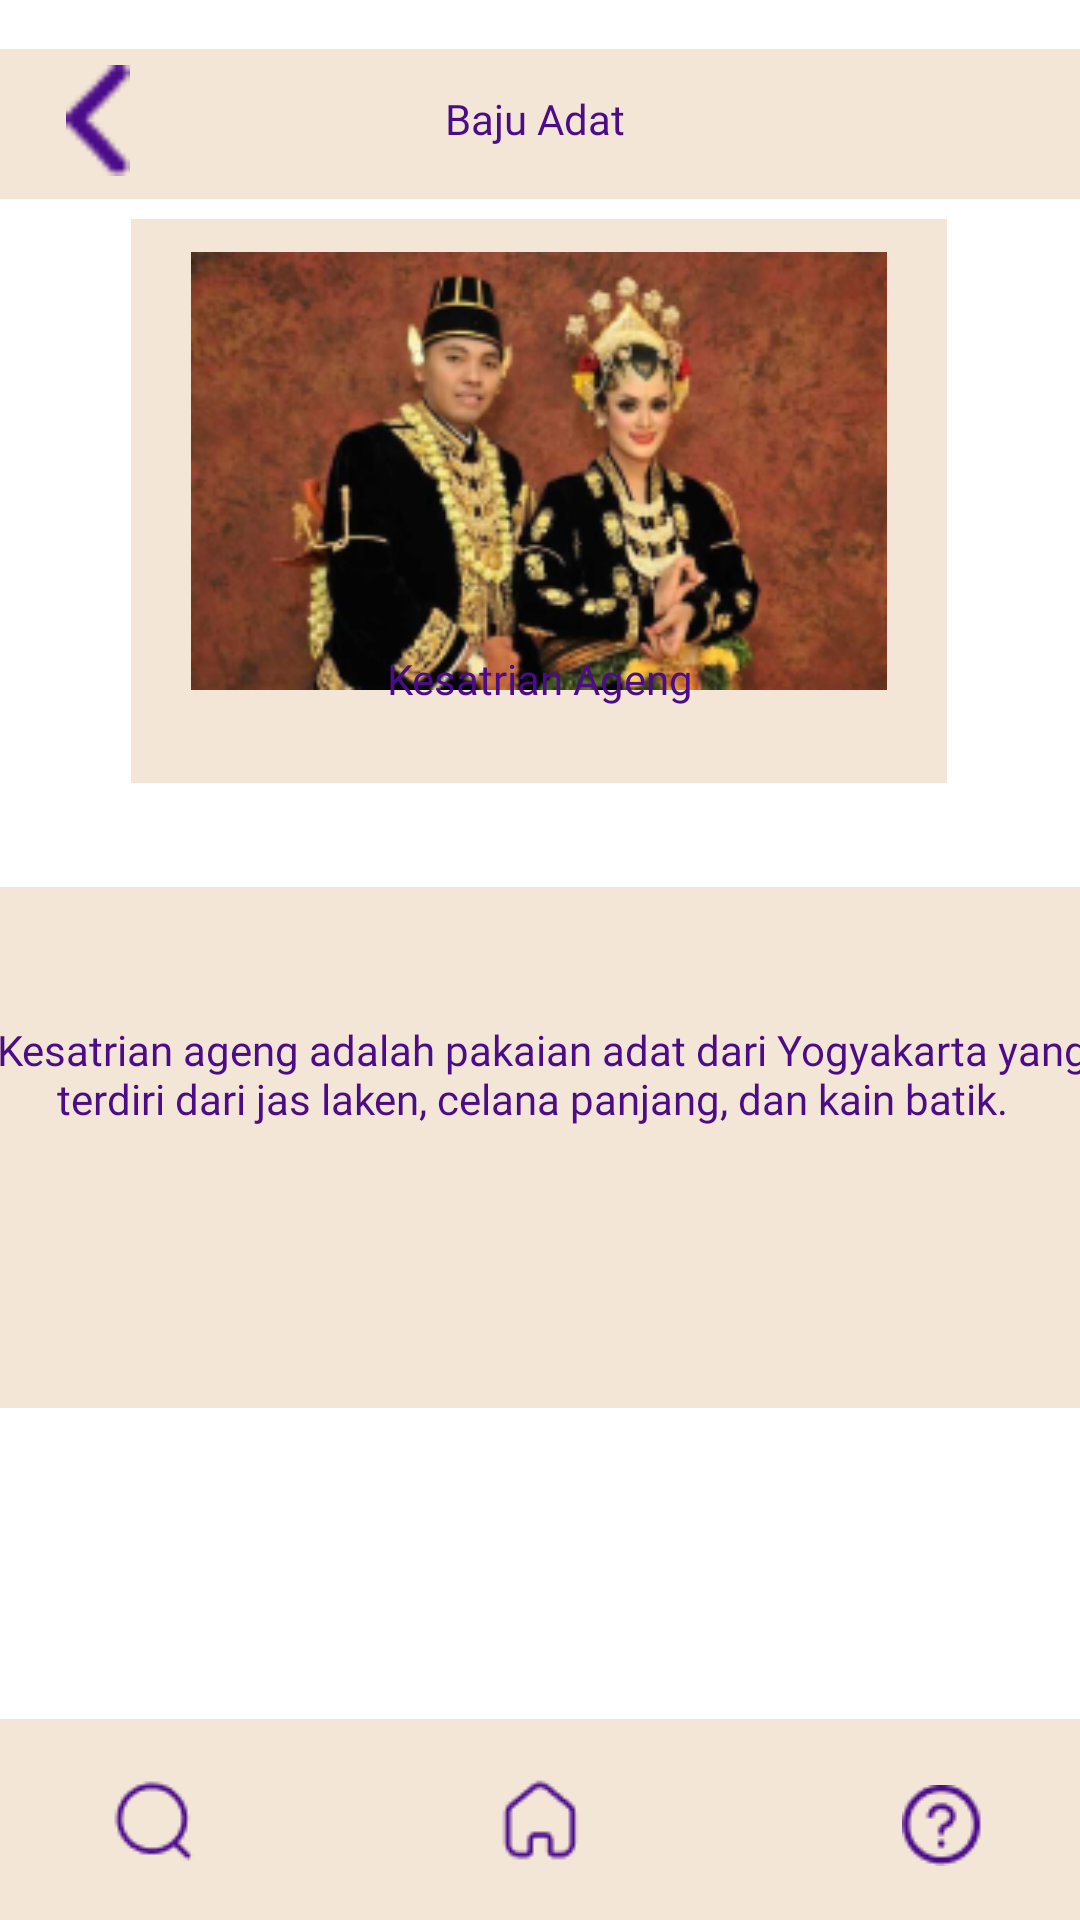

Icon bounding boxes for this 1080 x 1920 phone screenshot, format bbox(x1, y1, x2, y2):
homeee: bbox(503, 1780, 577, 1860)
tanya: bbox(902, 1785, 981, 1866)
xearch: bbox(114, 1781, 191, 1861)
